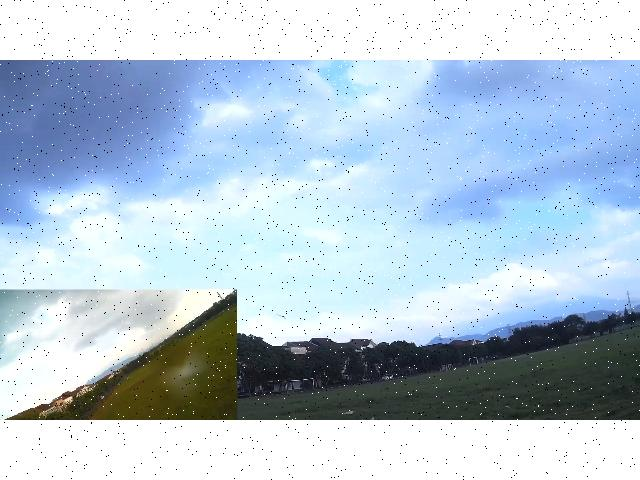Anti-Drone: (272, 308, 300, 324)
